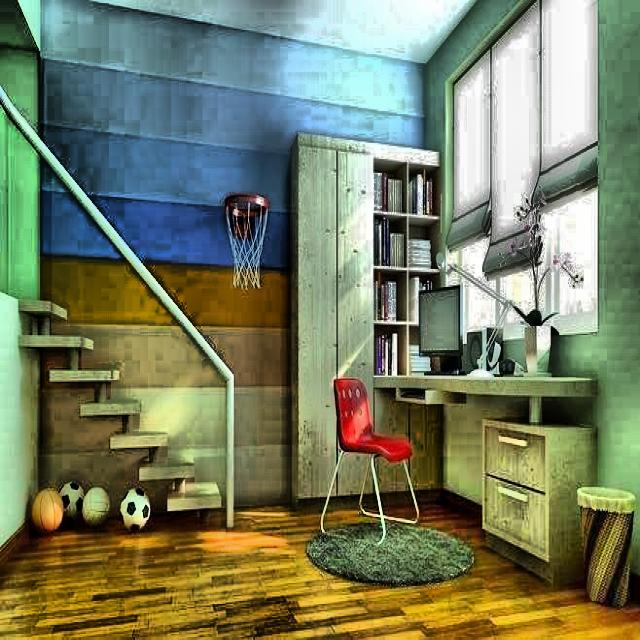rim: (225, 194, 270, 291)
